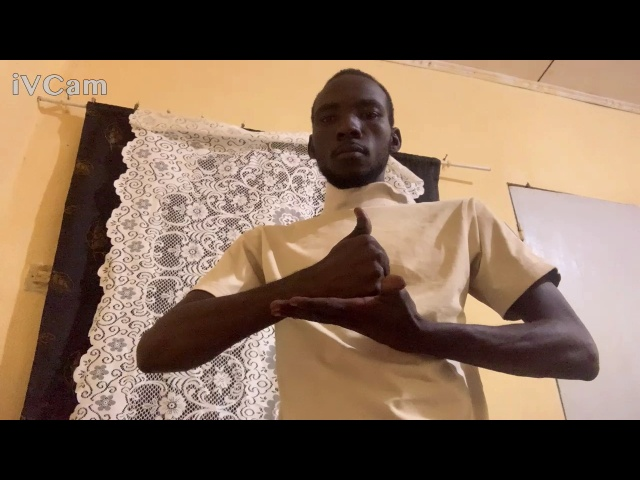aide: (261, 203, 443, 356)
